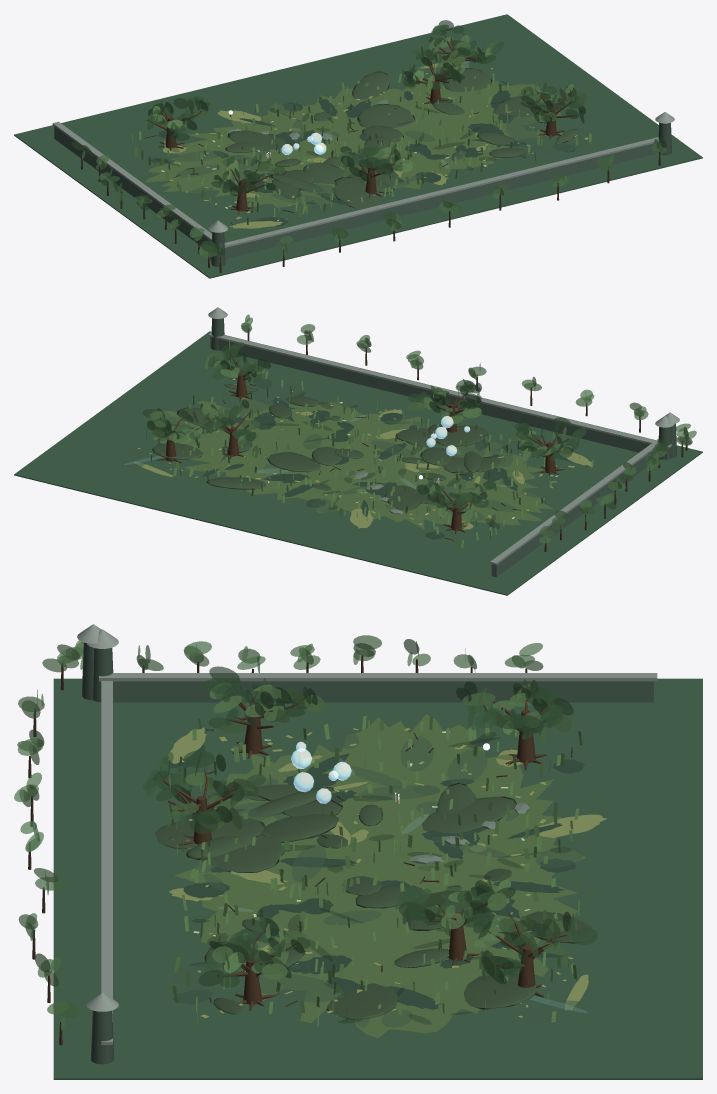
File: moonlit-lawn.high.glb
The picture shows the model from 3 angles, top to bottom: view 1: azimuth 30°, elevation 25°; view 2: azimuth 150°, elevation 25°; view 3: azimuth 270°, elevation 25°; orthographic projection. The views are drawn at different scales.
Visible parts, largest first — view 1: terrain_skirt_blended_ground, moonlit_lawn_irregular_terrain_sod, moonlit_lawn_subtle_earth_mound (×9), campus_perimeter_wall_far, campus_wall_far_capstone, campus_perimeter_wall_west, campus_wall_west_capstone, irregular_moss_mud_ground_patch; view 2: terrain_skirt_blended_ground, moonlit_lawn_irregular_terrain_sod, campus_perimeter_wall_far, moonlit_lawn_subtle_earth_mound (×6), campus_wall_far_capstone, campus_perimeter_wall_west, campus_wall_west_capstone, irregular_moss_mud_ground_patch; view 3: terrain_skirt_blended_ground, moonlit_lawn_irregular_terrain_sod, moonlit_lawn_subtle_earth_mound (×14), campus_perimeter_wall_west, irregular_moss_mud_ground_patch (×7), campus_wall_west_capstone, campus_wall_far_capstone, distant_academy_round_tower (×2), moonlit_lawn_dry_turf_island (×2).
Part boxes in pixels (<box>): terrain_skirt_blended_ground: <box>14,14,702,278</box>; moonlit_lawn_irregular_terrain_sod: <box>145,78,560,207</box>; moonlit_lawn_subtle_earth_mound (×9): <box>227,68,548,209</box>; campus_perimeter_wall_far: <box>210,142,659,259</box>; campus_wall_far_capstone: <box>225,137,671,247</box>; campus_perimeter_wall_west: <box>54,126,211,246</box>; campus_wall_west_capstone: <box>52,121,226,246</box>; irregular_moss_mud_ground_patch: <box>505,114,540,141</box>; terrain_skirt_blended_ground: <box>14,331,702,595</box>; moonlit_lawn_irregular_terrain_sod: <box>149,397,553,529</box>; campus_perimeter_wall_far: <box>210,337,667,459</box>; moonlit_lawn_subtle_earth_mound (×6): <box>152,425,487,510</box>; campus_wall_far_capstone: <box>208,332,671,448</box>; campus_perimeter_wall_west: <box>491,449,658,577</box>; campus_wall_west_capstone: <box>490,438,658,564</box>; irregular_moss_mud_ground_patch: <box>217,398,271,417</box>; terrain_skirt_blended_ground: <box>53,678,702,1079</box>; moonlit_lawn_irregular_terrain_sod: <box>172,714,586,1037</box>; moonlit_lawn_subtle_earth_mound (×14): <box>155,783,595,1019</box>; campus_perimeter_wall_west: <box>113,681,653,702</box>; irregular_moss_mud_ground_patch (×7): <box>170,736,583,1001</box>; campus_wall_west_capstone: <box>99,673,657,681</box>; campus_wall_far_capstone: <box>101,681,112,1044</box>; distant_academy_round_tower (×2): <box>91,648,114,1064</box>; moonlit_lawn_dry_turf_island (×2): <box>167,727,607,837</box>.
Bounding box in the file's own units: 41.93 × 4.2 × 30.24.
